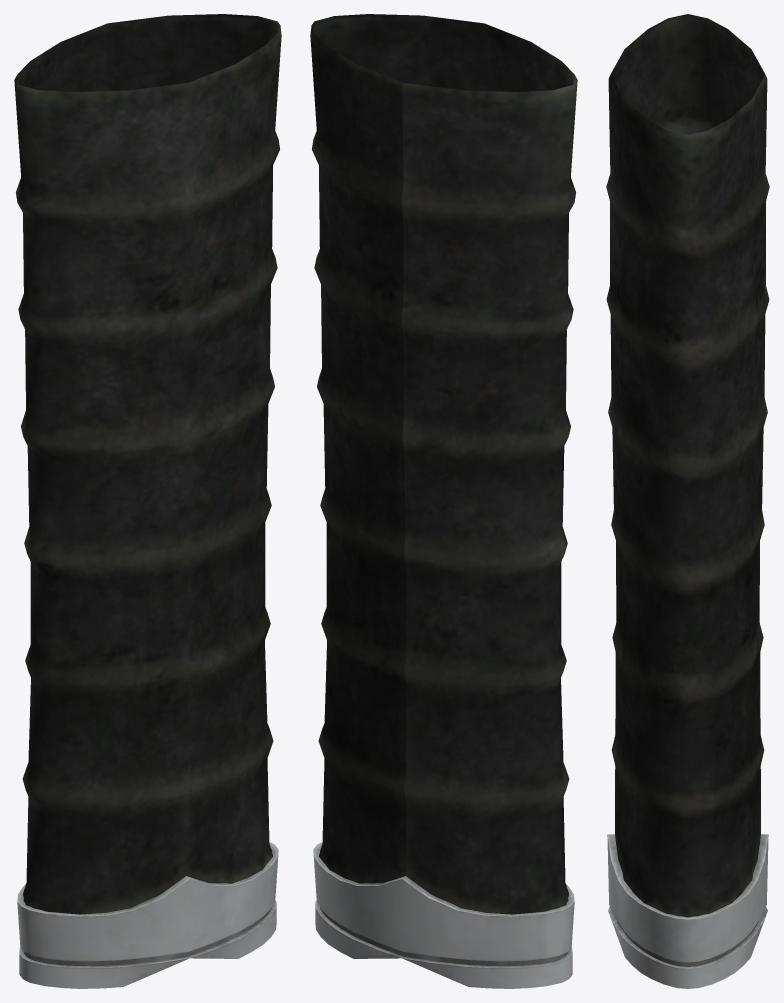
The model's file is anduril_handle.fbx.
The picture shows the model from 3 angles, left to right: view 1: azimuth 30°, elevation 25°; view 2: azimuth 150°, elevation 25°; view 3: azimuth 270°, elevation 25°; orthographic projection. The views are drawn at different scales.
Parts seen in each view (by area): view 1: anduril_handle; view 2: anduril_handle; view 3: anduril_handle.
Boxes of the visible parts, x1=… form: anduril_handle: x1=14, y1=14, x2=281, y2=988; anduril_handle: x1=310, y1=14, x2=577, y2=988; anduril_handle: x1=606, y1=14, x2=769, y2=988.
Bounding box in the file's own units: 0.0308 × 0.0172 × 0.0995.
Materials: 1 (1 with a texture image).
